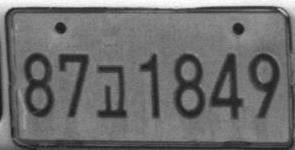1: (134, 53, 167, 119)
4: (209, 52, 245, 120)
7: (57, 52, 89, 119)
8: (172, 52, 206, 119), (23, 51, 55, 118)
9: (247, 51, 281, 120)
고: (95, 64, 128, 119)
